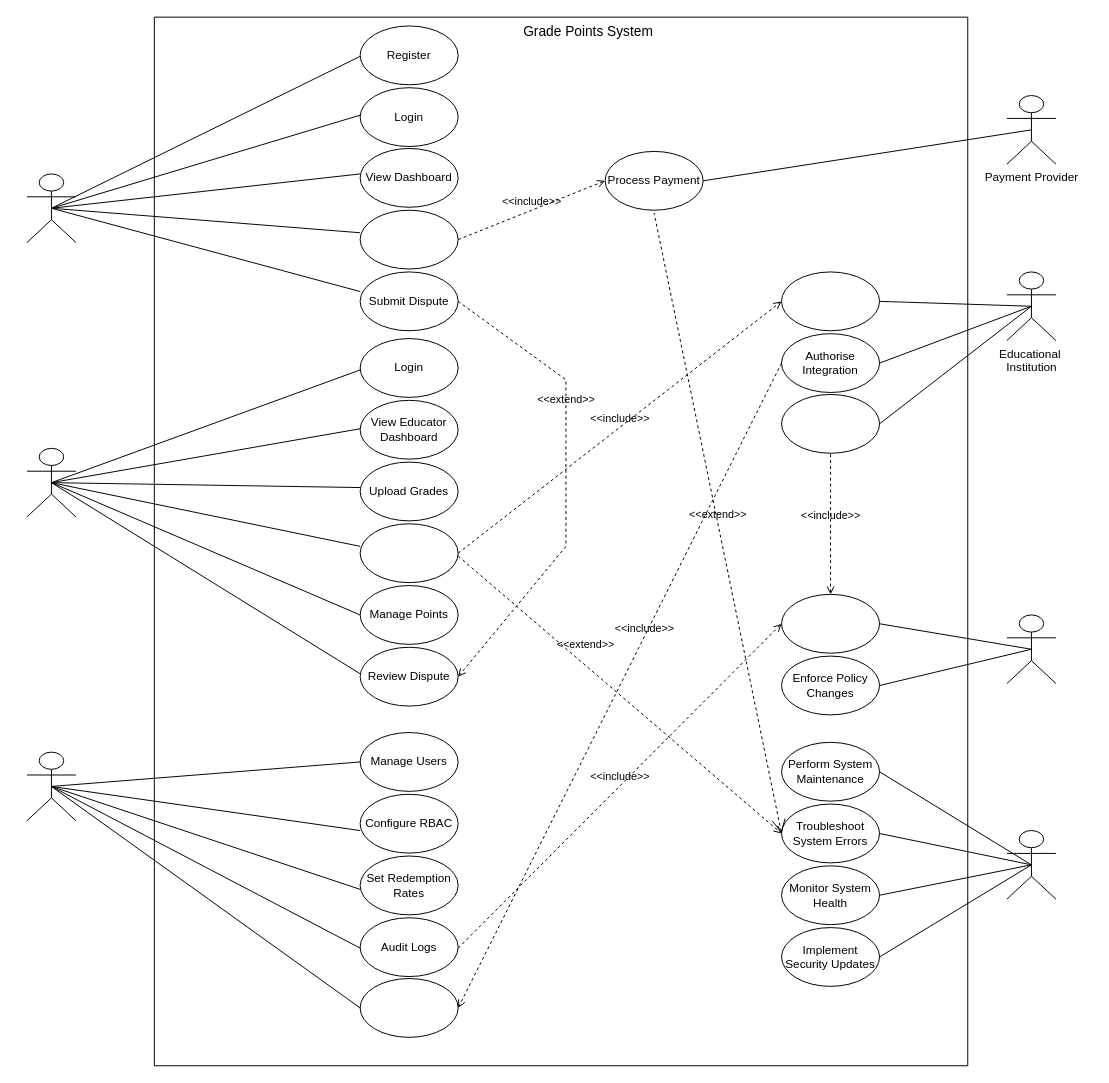
Image size: 1109x1083. Some labels were removed from this diagram. The shapes that lost their labels are listed below. From the top down, each one's box as (x1, y1, x2, y2) in pixels, then its label:
(26, 173, 76, 243): Student
(359, 209, 458, 269): Redeem Points
(781, 271, 880, 331): Provide Grade Data
(781, 393, 880, 453): Validate Compliance
(26, 447, 76, 517): Educator
(359, 523, 458, 583): Sync Grades
(781, 593, 880, 653): Review Compliance Reports
(1006, 614, 1056, 684): Government & Educational Regulators
(26, 751, 76, 821): Administrator
(1006, 830, 1056, 899): Technical Support & Developers
(359, 978, 458, 1037): Handle System Configuration
